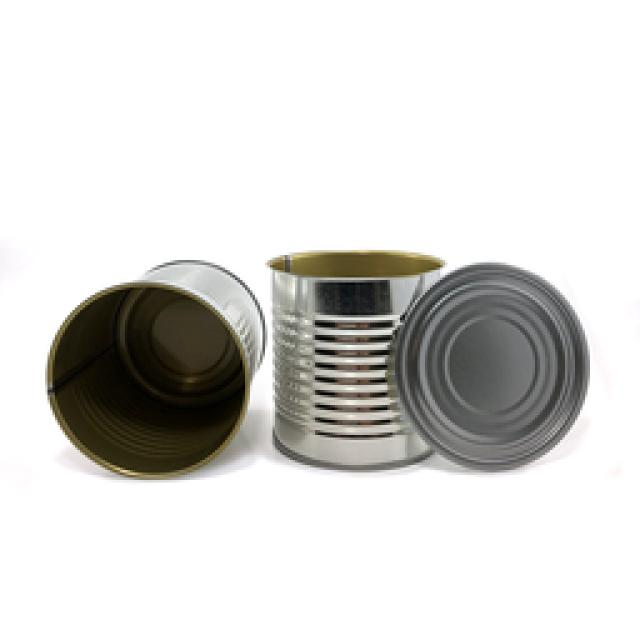alumunium: (268, 250, 588, 468), (50, 260, 265, 470)
